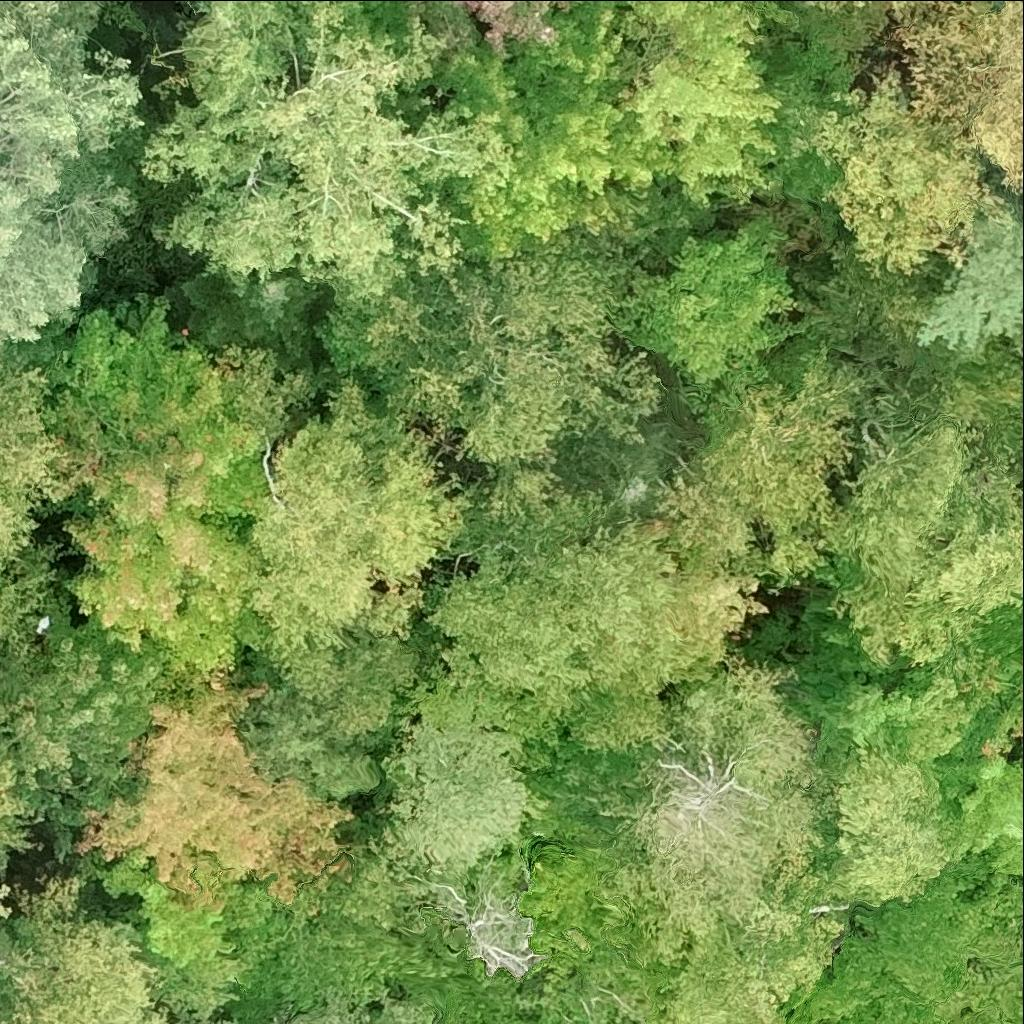crown: (142, 0, 490, 301), (36, 307, 271, 679), (365, 250, 659, 526), (421, 525, 714, 751), (615, 660, 826, 973), (72, 676, 350, 908), (250, 376, 475, 653), (421, 0, 651, 260), (823, 413, 1023, 669), (654, 358, 871, 586), (0, 0, 142, 339), (791, 64, 1007, 278), (774, 875, 1023, 1023), (606, 0, 780, 209), (0, 638, 161, 831), (245, 855, 423, 1017), (642, 897, 848, 1023), (0, 876, 176, 1023), (367, 718, 529, 876), (892, 0, 1023, 186), (826, 754, 950, 909), (0, 365, 63, 649), (816, 675, 974, 773), (529, 948, 681, 1023), (216, 344, 316, 446), (658, 572, 765, 667), (440, 887, 540, 976), (442, 0, 567, 51), (975, 654, 1023, 759), (0, 753, 35, 874), (287, 1007, 352, 1023), (798, 0, 847, 14), (406, 0, 440, 9), (892, 0, 906, 19), (853, 0, 877, 9), (0, 904, 9, 918), (0, 721, 2, 733)
